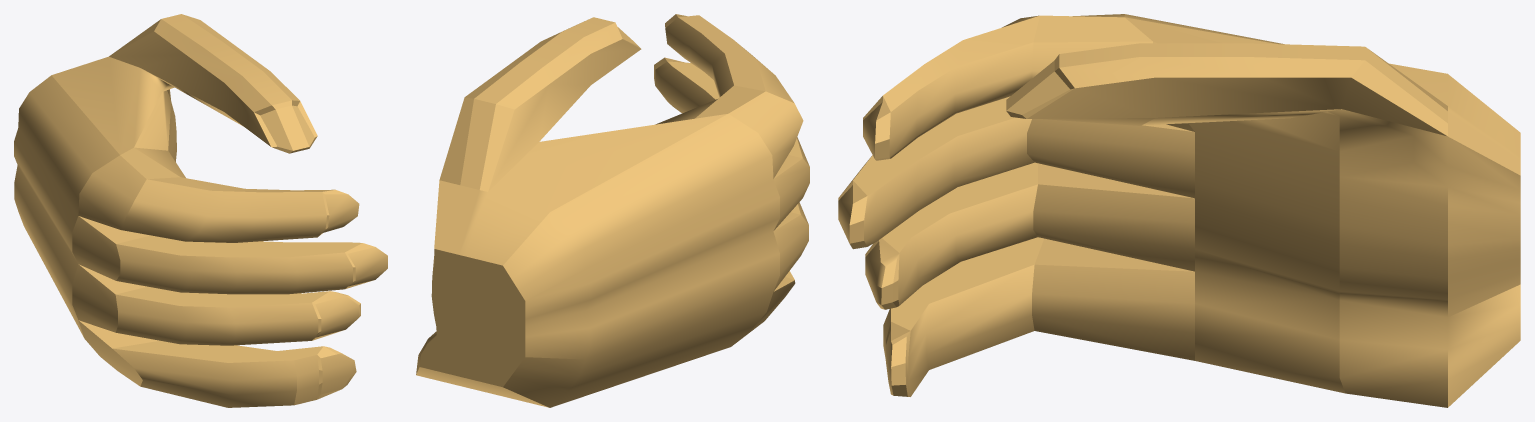
File: hand.fbx
3 views of the same model, side by side, from view 1: azimuth 30°, elevation 25°; view 2: azimuth 150°, elevation 25°; view 3: azimuth 270°, elevation 25° (orthographic). The views are drawn at different scales.
Visible parts, largest first — view 1: pCube1; view 2: pCube1; view 3: pCube1.
Boxes of the visible parts, box(x1,y1,x2,y2) form: pCube1: box(14, 14, 387, 407); pCube1: box(416, 14, 809, 407); pCube1: box(838, 14, 1520, 407).
Bounding box in the file's own units: 1.02 × 1.17 × 1.99.
